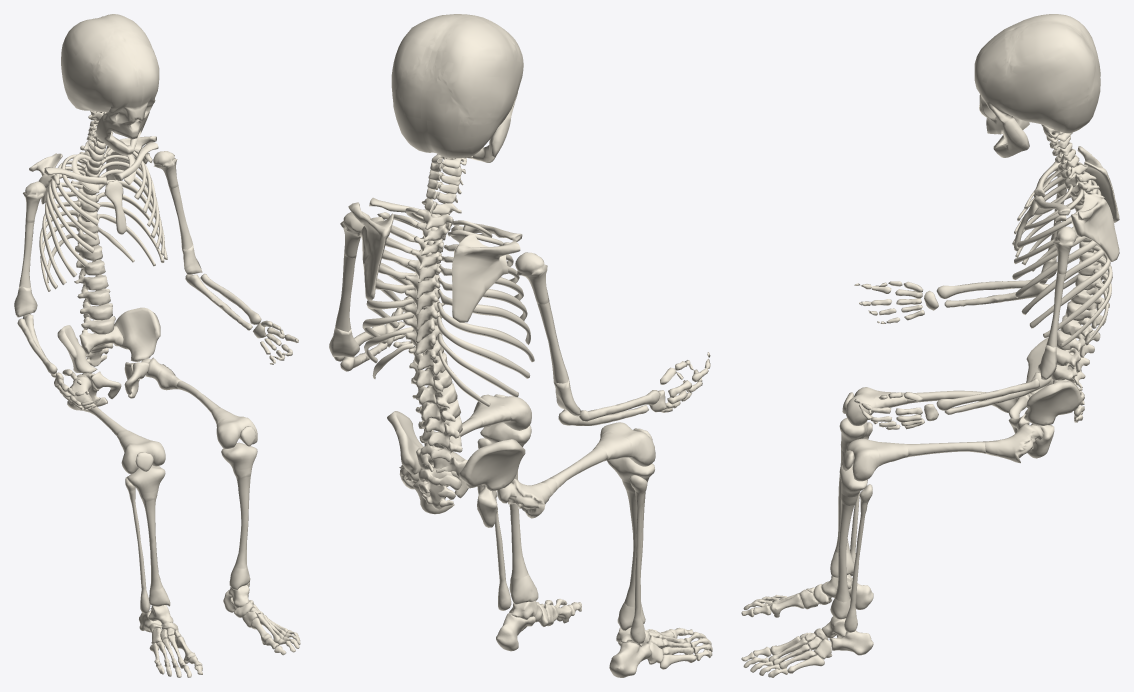
The model's file is piper-child-6yo.glb.
3 renders of one model, left to right at view 1: azimuth 30°, elevation 25°; view 2: azimuth 150°, elevation 25°; view 3: azimuth 270°, elevation 25°, orthographic. The views are drawn at different scales.
Parts seen in each view (by area): view 1: part-1100, part-1110, part-9170, part-7170, part-8101-L-髂骨, part-8110, part-9105, part-3101, part-7123, part-7105, part-8101-R-髂骨, part-9123 (+25 smaller); view 2: part-1100, part-1110, part-4142, part-9170, part-8101-R-髂骨, part-7170, part-8110, part-4141, part-5101, part-9101, part-8101-L-髂骨, part-5105 (+28 smaller); view 3: part-1100, part-1110, part-7170, part-9170, part-4141, part-8101-L-髂骨, part-5101, part-3101, part-7101, part-7105, part-7123, part-4142 (+15 smaller).
Part boxes in pixels (bbox=[...]): part-1100: bbox=[61, 14, 159, 155]; part-1110: bbox=[61, 14, 158, 155]; part-9170: bbox=[139, 605, 202, 677]; part-7170: bbox=[223, 585, 300, 655]; part-8101-L-髂骨: bbox=[114, 307, 160, 361]; part-8110: bbox=[79, 326, 123, 366]; part-9105: bbox=[121, 439, 165, 473]; part-3101: bbox=[253, 320, 298, 364]; part-7123: bbox=[234, 476, 250, 568]; part-7105: bbox=[216, 416, 257, 448]; part-8101-R-髂骨: bbox=[57, 325, 97, 373]; part-9123: bbox=[142, 499, 162, 589]; part-1100: bbox=[391, 14, 523, 162]; part-1110: bbox=[391, 14, 522, 162]; part-4142: bbox=[452, 233, 520, 322]; part-9170: bbox=[609, 627, 712, 677]; part-8101-R-髂骨: bbox=[459, 439, 525, 490]; part-7170: bbox=[496, 599, 581, 651]; part-8110: bbox=[416, 448, 467, 509]; part-4141: bbox=[348, 202, 393, 300]; part-5101: bbox=[649, 352, 710, 412]; part-9101: bbox=[497, 478, 551, 518]; part-8101-L-髂骨: bbox=[387, 411, 433, 474]; part-5105: bbox=[515, 252, 549, 304]; part-1100: bbox=[974, 14, 1100, 157]; part-1110: bbox=[974, 17, 1100, 149]; part-7170: bbox=[741, 616, 873, 677]; part-9170: bbox=[741, 574, 873, 617]; part-4141: bbox=[1055, 194, 1119, 261]; part-8101-L-髂骨: bbox=[1024, 381, 1081, 425]; part-5101: bbox=[854, 281, 938, 324]; part-3101: bbox=[854, 392, 938, 429]; part-7101: bbox=[985, 423, 1043, 463]; part-7105: bbox=[846, 438, 879, 481]; part-7123: bbox=[835, 501, 854, 602]; part-4142: bbox=[1055, 146, 1119, 222].
Size of the model in its own units: 0.3942 by 0.9169 by 0.5073.
